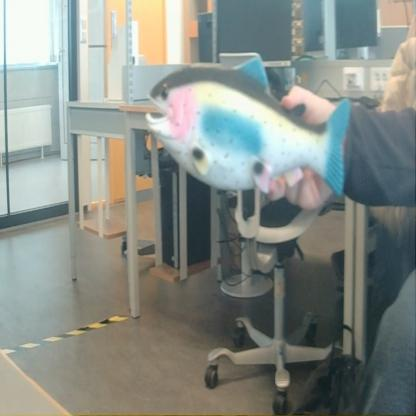rubberfish: (139, 50, 352, 206)
